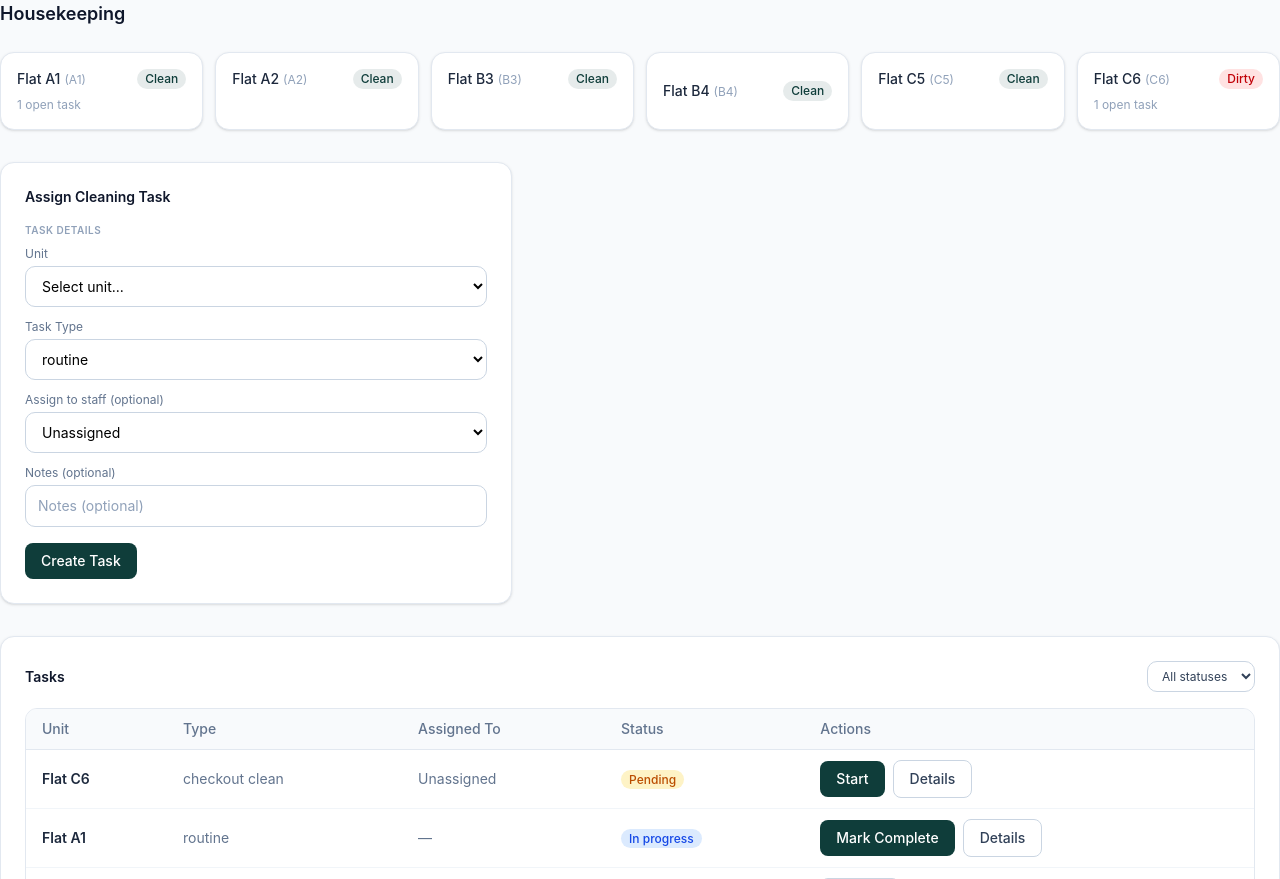
Test: HousekeepingPage — UI polish › a unit card with an existing task is clickable and opens that task's existing Details view
expect the text "Flat A1(A1)" is shown: met, box [17,69,86,89]
Click the button with aria-label "View housekeeping details for Flat C6" at (1178, 91), box [1077,52,1279,130]
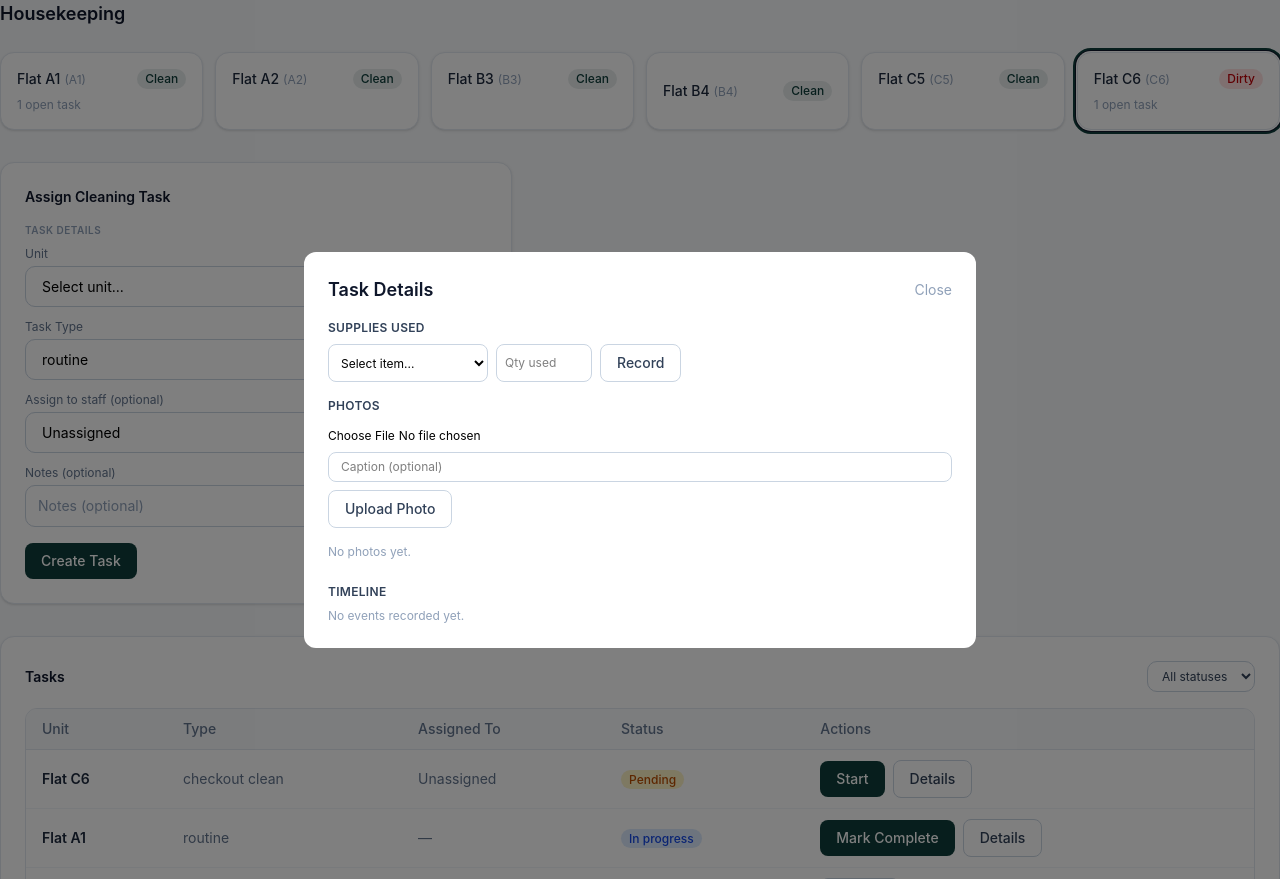
expect the heading "Supplies Used" is shown: met, box [328,320,425,335]
